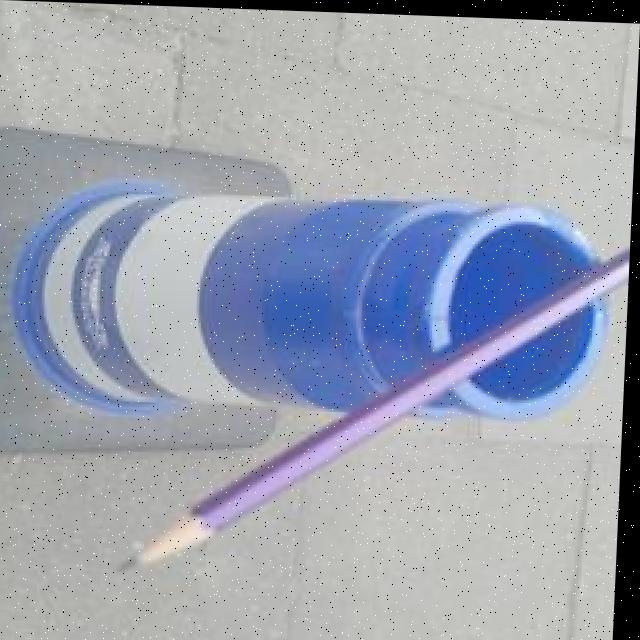pencil: (103, 237, 630, 594)
